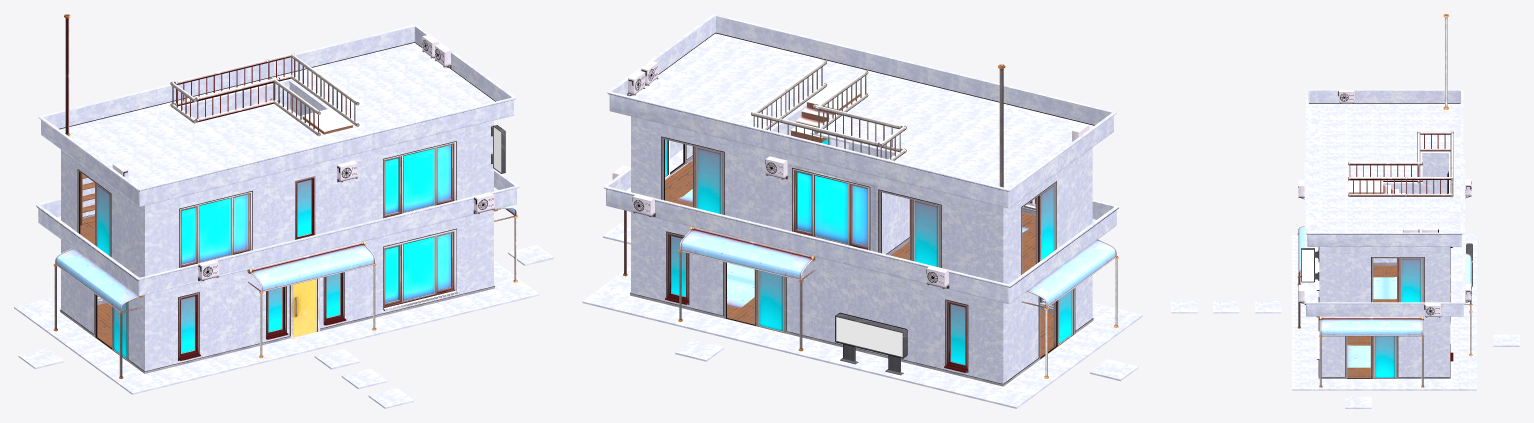
The model's file is demoAnimeBuilding.glb.
The picture shows the model from 3 angles, left to right: view 1: azimuth 30°, elevation 25°; view 2: azimuth 150°, elevation 25°; view 3: azimuth 270°, elevation 25°; orthographic projection. The views are drawn at different scales.
Visible parts, largest first — view 1: RoofEdge, RoofFloor, Balcony, RoofFloor.004, Baseboard.002, Baseboard.006, Baseboard.007, CornerWall.001, awning, CornerWall.006, RoofFloor.011, SingleWall.005 (+37 smaller); view 2: RoofEdge, RoofFloor, Balcony, RoofFloor.005, Baseboard.005, CornerWall.003, awning.001, CornerWall.005, RoofFloor.011, Sign.001, SingleWall.017, SingleWall.013 (+40 smaller); view 3: RoofFloor, RoofEdge, Balcony, RoofFloor.004, RoofFloor.005, awning.003, SingleWall.015, RoofFloor.006, CornerWall.004, SingleWall.003, CornerWall.007, CornerWall.008 (+17 smaller).
Boxes of the visible parts, x1,y1,x2,y2 form: RoofEdge: (38,24,516,206); RoofFloor: (70,51,481,187); Balcony: (36,169,519,296); RoofFloor.004: (115,281,539,394); Baseboard.002: (377,224,465,316); Baseboard.006: (377,135,464,219); Baseboard.007: (174,185,261,269); CornerWall.001: (127,295,174,373); awning: (247,241,375,291); CornerWall.006: (128,201,173,277); RoofFloor.011: (31,312,143,382); SingleWall.005: (203,281,232,359); RoofEdge: (607,14,1116,208); RoofFloor: (643,42,1074,188); Balcony: (603,140,1118,303); RoofFloor.005: (582,288,1034,408); Baseboard.005: (786,163,878,252); CornerWall.003: (971,297,1021,386); awning.001: (680,226,816,279); CornerWall.005: (972,203,1020,283); RoofFloor.011: (1004,320,1124,395); Sign.001: (835,312,907,375); SingleWall.017: (662,132,723,214); SingleWall.013: (879,185,940,267); RoofFloor: (1320,108,1448,232); RoofEdge: (1306,89,1463,246); Balcony: (1304,158,1465,316); RoofFloor.004: (1292,234,1318,390); RoofFloor.005: (1450,234,1476,390); awning.003: (1319,316,1423,336); SingleWall.015: (1371,254,1423,302); RoofFloor.006: (1318,379,1450,390); CornerWall.004: (1424,322,1450,378); SingleWall.003: (1345,336,1397,378); CornerWall.007: (1318,254,1345,302); CornerWall.008: (1424,254,1450,302).
Size of what is drawn, in the model's own units: 34.52 by 19.7 by 26.59.
4 materials, 3 textured.
